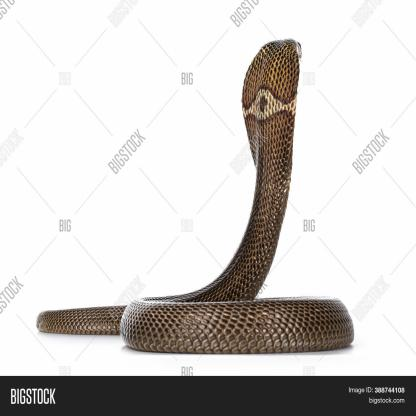Snake: (27, 36, 354, 355)
